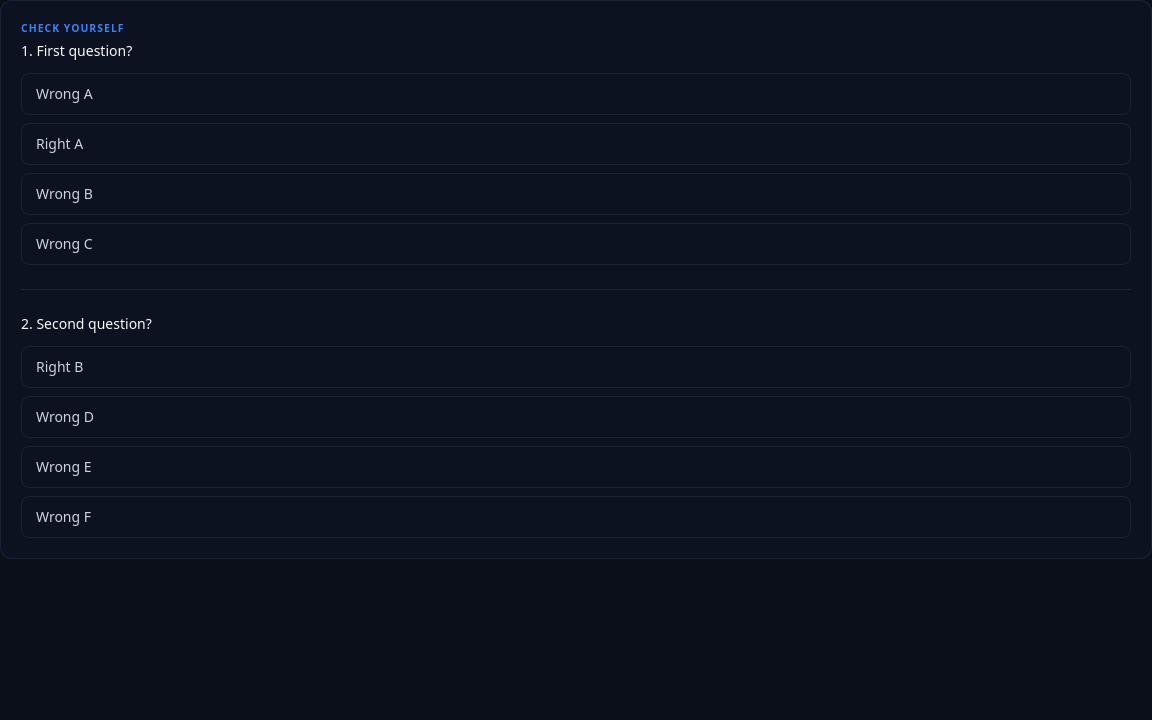
CheckYourselfQuiz › only shows "Try again" once every question has been answered
The width and height of the screenshot is (1152, 720).
expect the text "Try again" is not shown: met
Click the button "Right A" at (60, 143), box top-left (21, 123), bottom-right (1131, 165)
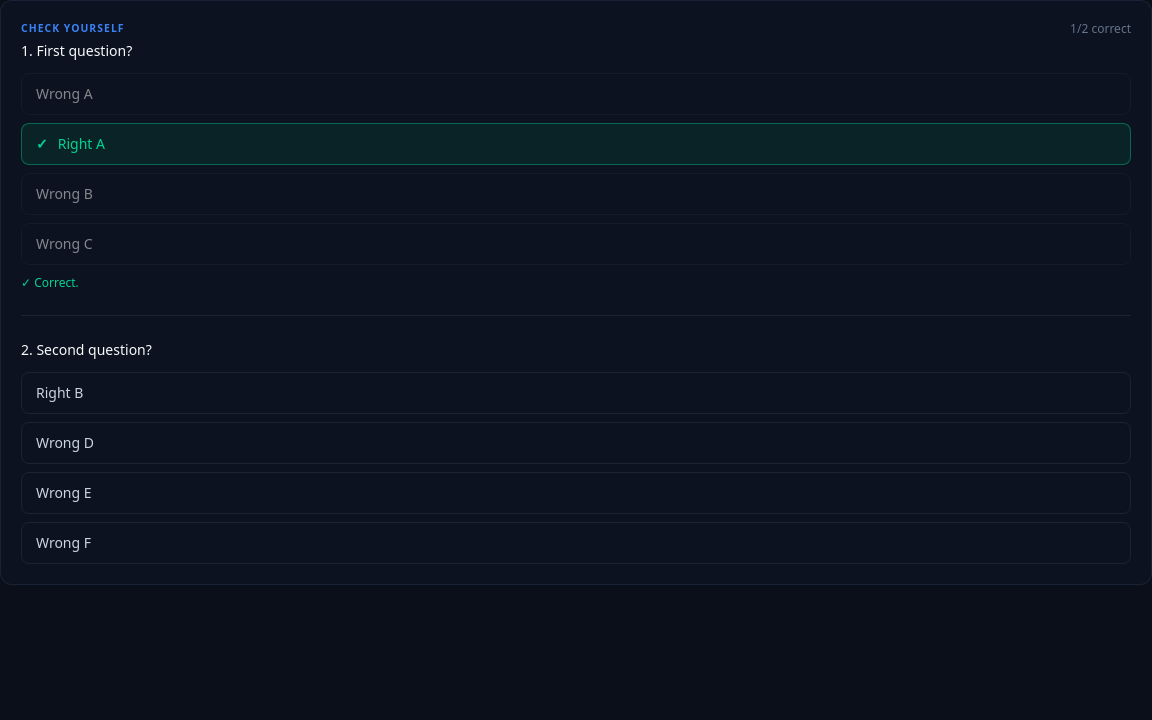
expect the text "Try again" is not shown: met
Click the button "Right B" at (60, 392), box top-left (21, 372), bottom-right (1131, 414)
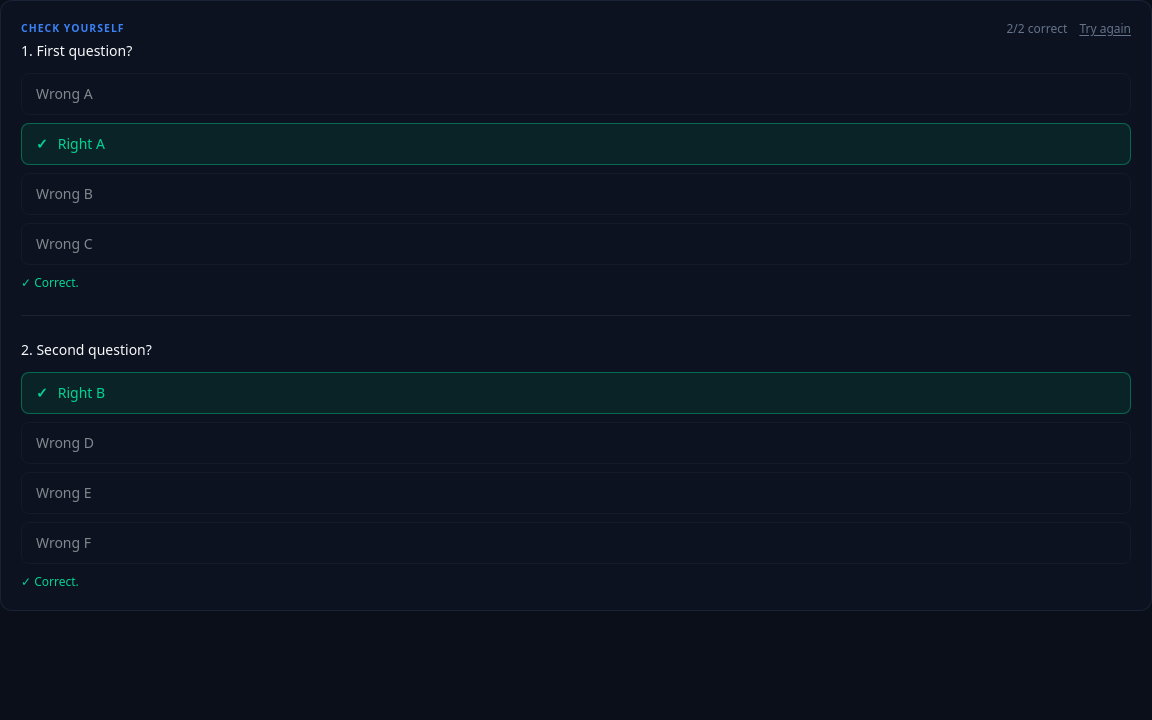
expect the button "Try again" is shown: met, box top-left (1079, 21), bottom-right (1131, 37)
expect the text "2/2 correct" is shown: met, box top-left (1006, 21), bottom-right (1067, 37)
